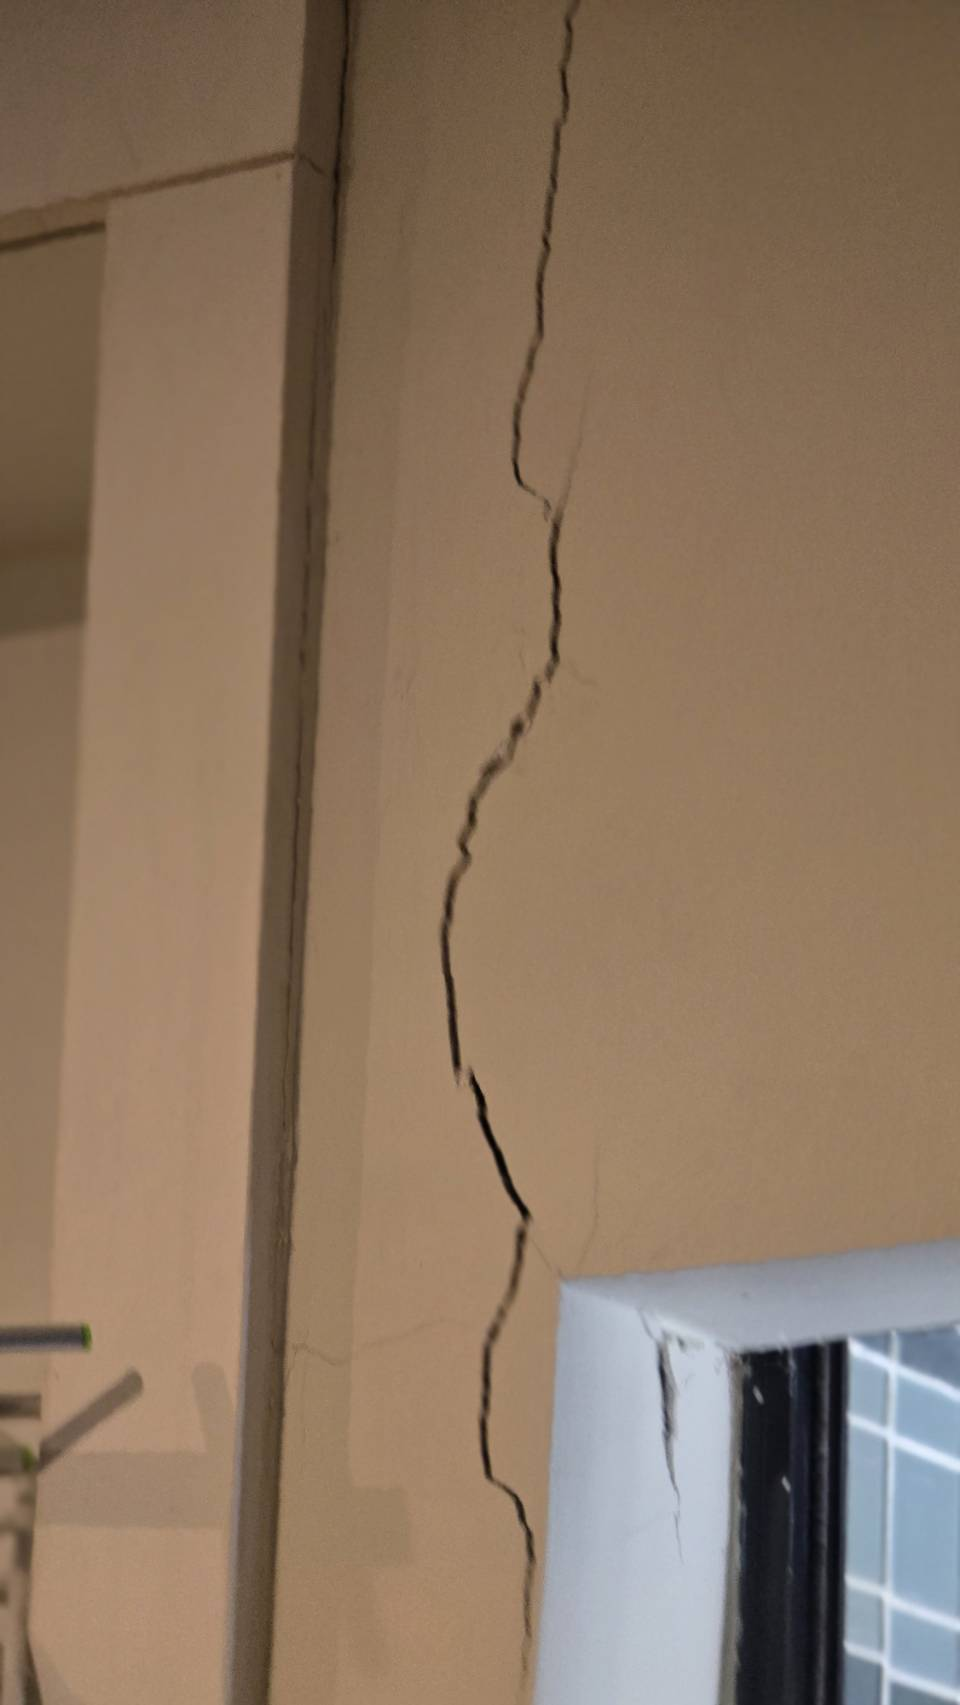Medium: (347, 11, 623, 1267)
